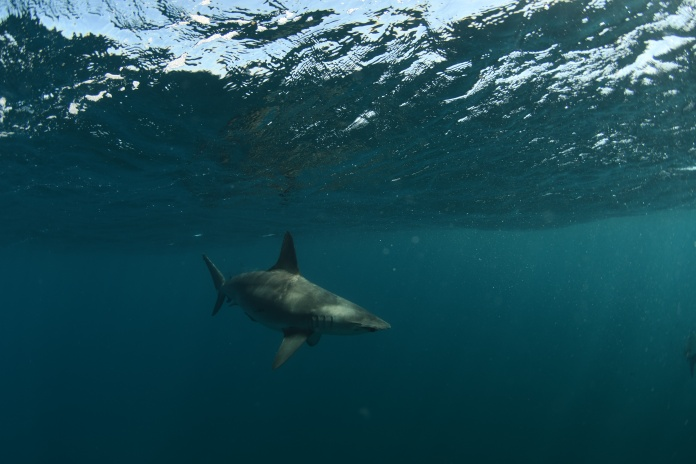Hammer: (184, 231, 409, 375)
